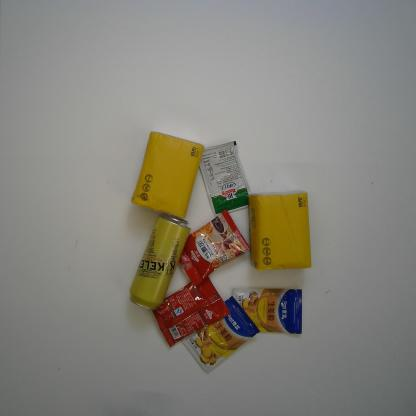Alcohol: (129, 213, 193, 311)
Instant Drink: (152, 276, 232, 348), (178, 209, 250, 287)
Seasoner: (180, 294, 261, 374), (199, 140, 249, 217), (232, 288, 304, 335)
Tissue: (130, 130, 205, 219), (247, 189, 312, 271)
